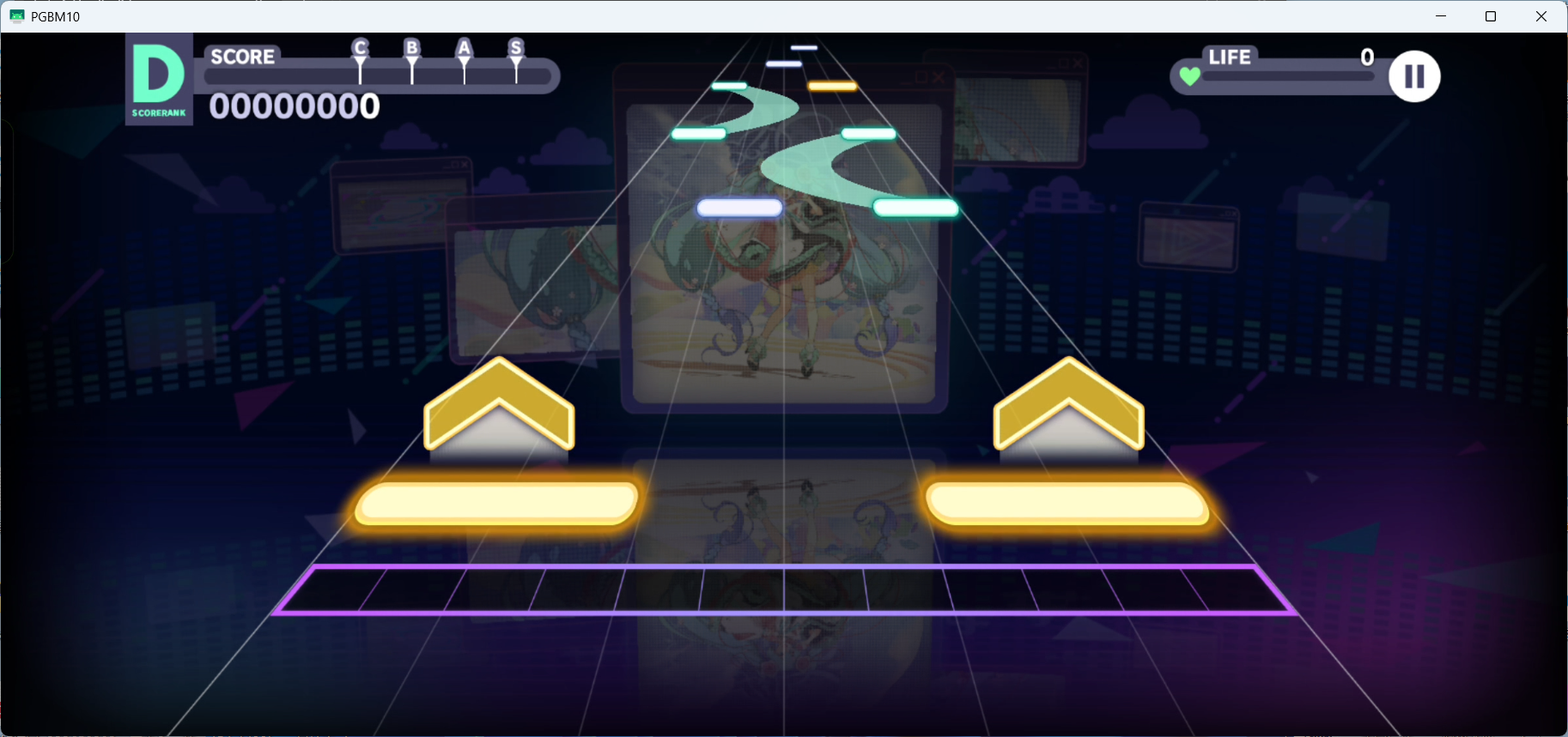flick: (994, 355, 1145, 470), (423, 356, 574, 465)
hold: (761, 141, 905, 198), (705, 91, 799, 129)
tap: (354, 480, 637, 527), (925, 481, 1209, 526), (696, 197, 782, 217), (873, 198, 959, 216), (841, 127, 896, 140), (672, 128, 726, 140), (806, 81, 856, 91), (710, 82, 747, 90), (765, 60, 801, 67), (791, 45, 817, 50)
